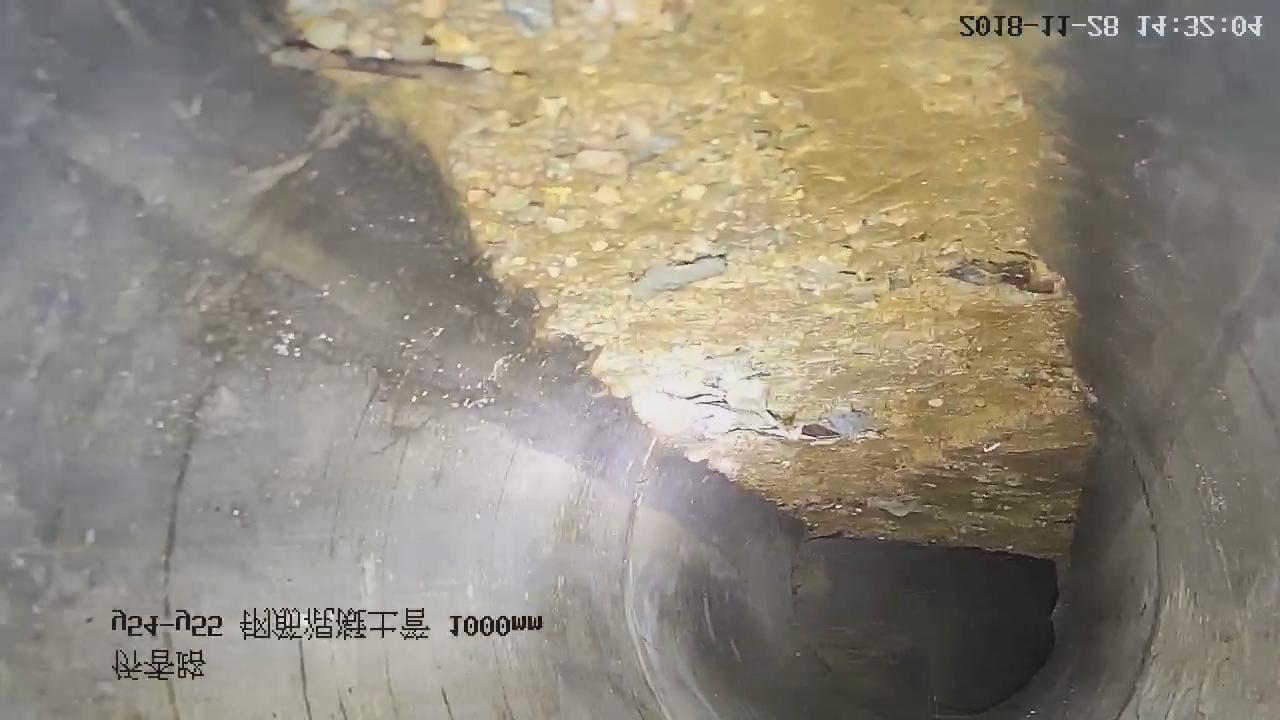CJ: (287, 1, 1091, 558)
